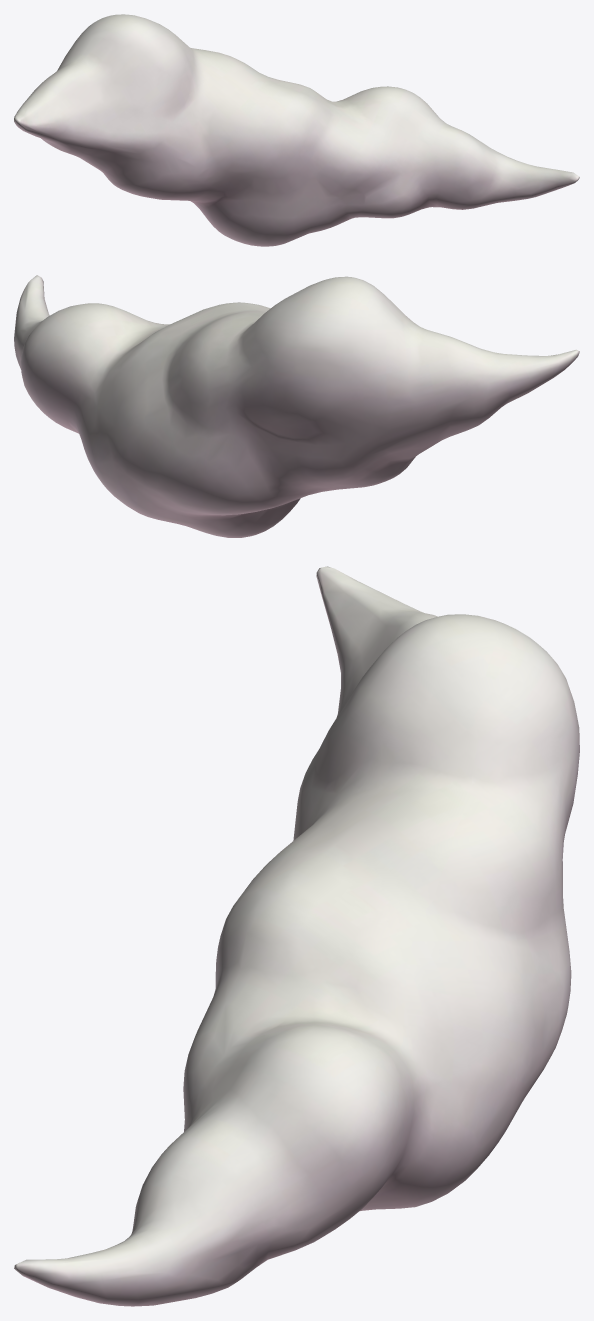
The model's file is sky_cloud_02a.glb.
The picture shows the model from 3 angles, top to bottom: view 1: azimuth 30°, elevation 25°; view 2: azimuth 150°, elevation 25°; view 3: azimuth 270°, elevation 25°; orthographic projection. The views are drawn at different scales.
Visible parts, largest first — view 1: cloud_02a; view 2: cloud_02a; view 3: cloud_02a.
Part boxes in pixels (left/top/right/bottom): cloud_02a: left=14, top=14, right=579, bottom=246; cloud_02a: left=14, top=275, right=579, bottom=537; cloud_02a: left=14, top=566, right=579, bottom=1306.
Bounding box in the file's own units: 59.98 × 27.15 × 30.69.
1 material, 1 textured.
